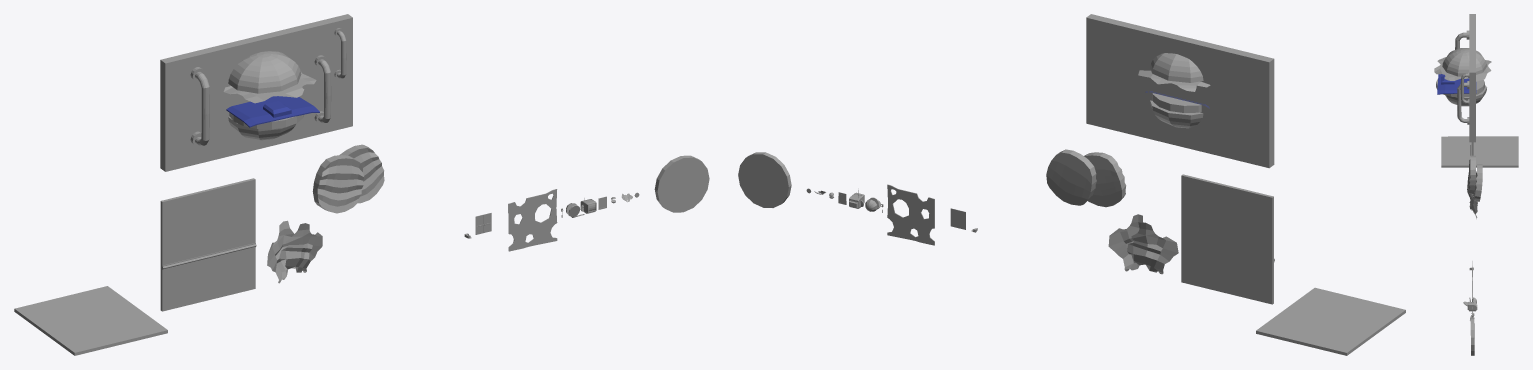
File: Door_Cheese.obj
The picture shows the model from 3 angles, left to right: view 1: azimuth 30°, elevation 25°; view 2: azimuth 150°, elevation 25°; view 3: azimuth 270°, elevation 25°; orthographic projection. The views are drawn at different scales.
Visible parts, largest first — view 1: Cylinder.012_Cylinder.026, Cube.001_Cube.021, Cube.004_Cube.031, Sphere.000_Sphere.010, Cylinder.004_Cylinder.008, Cylinder.001_Cylinder.006, Plane.002_Plane.012, Plane.004_Plane.011; view 2: Cylinder.012_Cylinder.026, Cube.001_Cube.021, Cube.004_Cube.031, Cylinder.004_Cylinder.008, Sphere.000_Sphere.010, Plane.002_Plane.012, Cylinder.001_Cylinder.006, Plane.004_Plane.011; view 3: Cube.004_Cube.031, Sphere.000_Sphere.010, Cylinder.012_Cylinder.026, Cylinder.004_Cylinder.008, Cylinder.001_Cylinder.006, Plane.002_Plane.012, Cube_Cube.018.
Boxes of the visible parts, x1,y1,x2,y2 form: Cylinder.012_Cylinder.026: (160, 14, 352, 171); Cube.001_Cube.021: (160, 178, 256, 311); Cube.004_Cube.031: (14, 286, 167, 355); Sphere.000_Sphere.010: (223, 51, 319, 140); Cylinder.004_Cylinder.008: (312, 144, 384, 213); Cylinder.001_Cylinder.006: (654, 155, 709, 212); Plane.002_Plane.012: (267, 220, 322, 283); Plane.004_Plane.011: (508, 189, 557, 251); Cylinder.012_Cylinder.026: (1086, 14, 1274, 168); Cube.001_Cube.021: (1181, 174, 1274, 304); Cube.004_Cube.031: (1256, 287, 1405, 355); Cylinder.004_Cylinder.008: (1046, 149, 1126, 207); Sphere.000_Sphere.010: (1138, 53, 1210, 128); Plane.002_Plane.012: (1108, 214, 1178, 274); Cylinder.001_Cylinder.006: (738, 152, 791, 207); Plane.004_Plane.011: (887, 184, 934, 245); Cube.004_Cube.031: (1441, 136, 1518, 167); Sphere.000_Sphere.010: (1434, 48, 1491, 106); Cylinder.012_Cylinder.026: (1455, 14, 1475, 142); Cylinder.004_Cylinder.008: (1467, 155, 1482, 201); Cylinder.001_Cylinder.006: (1470, 317, 1474, 355); Plane.002_Plane.012: (1467, 185, 1477, 218); Cube_Cube.018: (1467, 301, 1477, 311).
Size of the model in its own units: 677 by 272 by 117.
